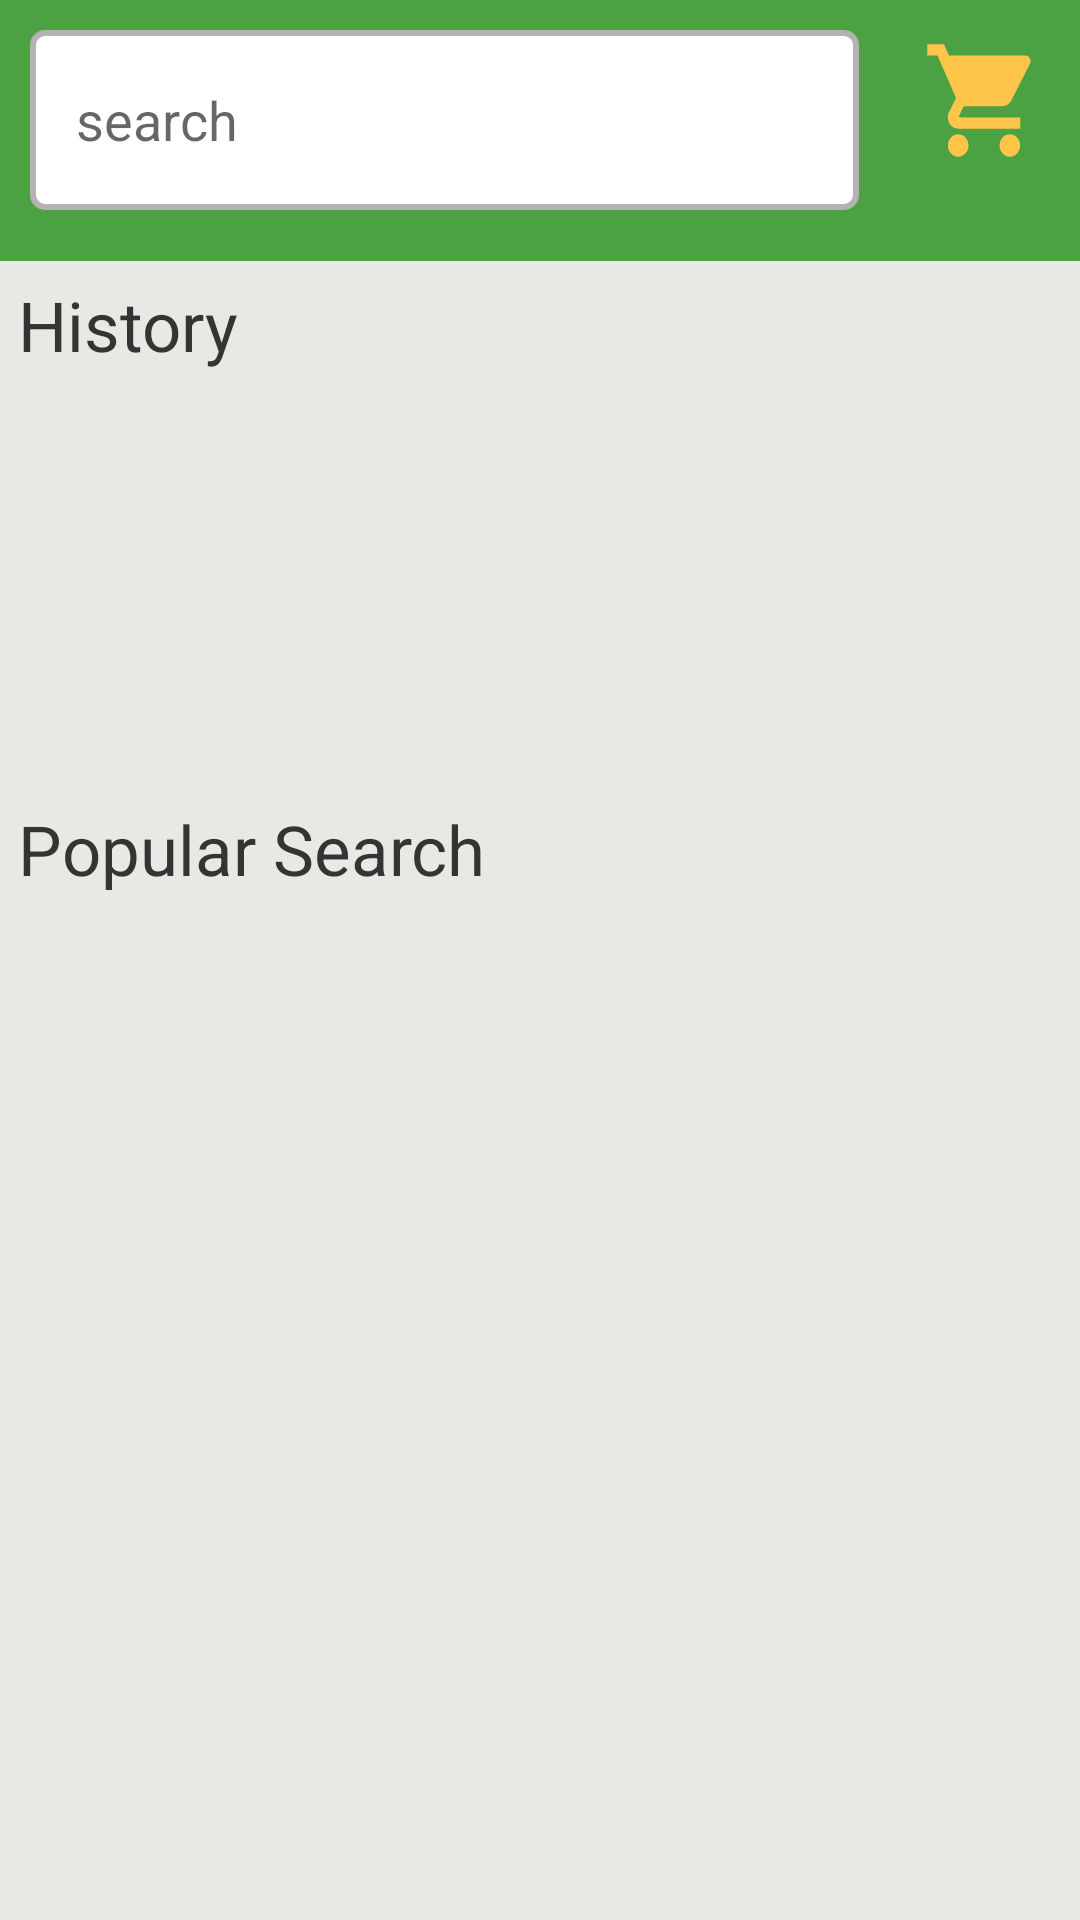

Named icons in this screenshot (1080w x 1920h) and their centers, point (x, y):
shopping cart: point (979, 100)
